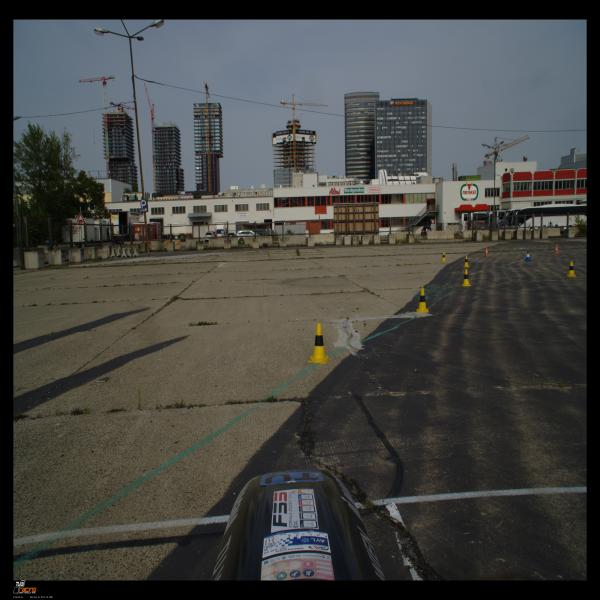blue_cone: (525, 251, 531, 261)
orange_cone: (484, 246, 489, 256), (554, 244, 559, 254)
yellow_cone: (307, 323, 331, 364), (416, 288, 429, 312), (461, 269, 472, 286), (566, 261, 576, 277), (463, 256, 470, 268), (441, 252, 446, 261)
